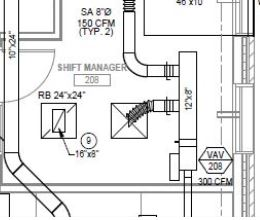VAV: (169, 135, 201, 186)
